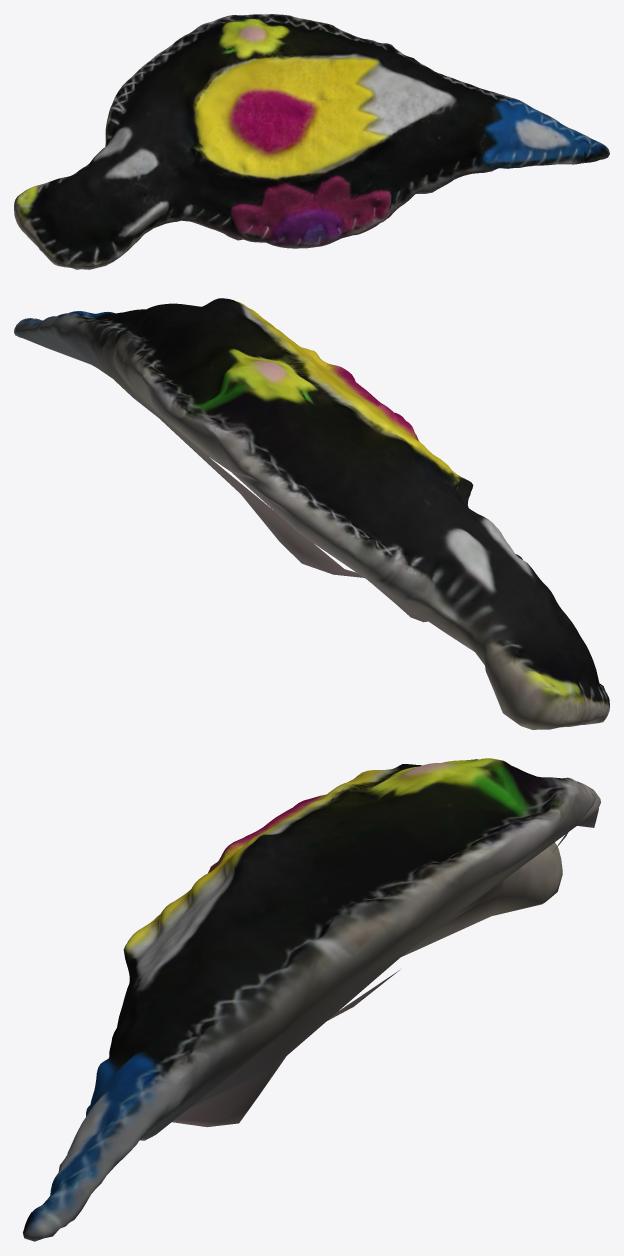
3 renders of one model, top to bottom at view 1: azimuth 30°, elevation 25°; view 2: azimuth 150°, elevation 25°; view 3: azimuth 270°, elevation 25°, orthographic. The views are drawn at different scales.
Size of the model in its own units: 0.7381 by 0.2729 by 0.3912.
1 material, 1 textured.
